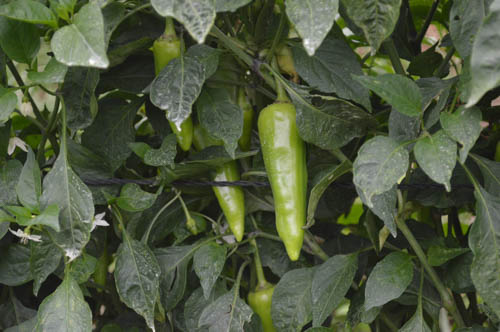ChiliPepper: (256, 98, 308, 263), (194, 122, 247, 240), (152, 39, 191, 151), (243, 288, 283, 329), (229, 100, 255, 156)
